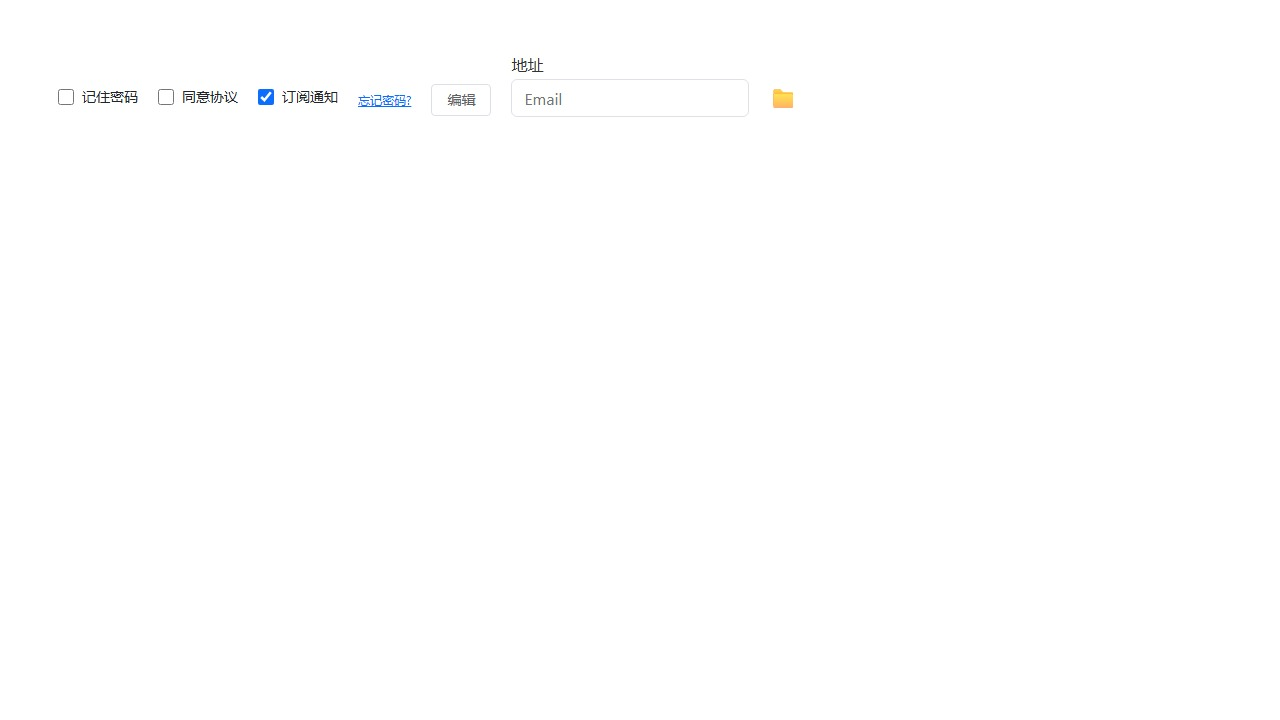button: (431, 83, 491, 115)
checkbox: (58, 89, 74, 105), (158, 89, 174, 105), (258, 89, 274, 105)
icon: (82, 87, 138, 106), (182, 87, 238, 106), (282, 87, 338, 106), (769, 87, 797, 107)
input: (511, 79, 749, 117)
link: (358, 91, 411, 107)
radio: (58, 87, 138, 106), (158, 87, 238, 106), (258, 87, 338, 106)
